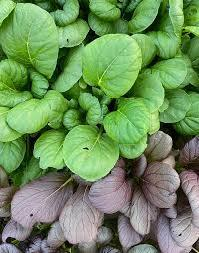Healthy-Pechay: (3, 2, 199, 148)
